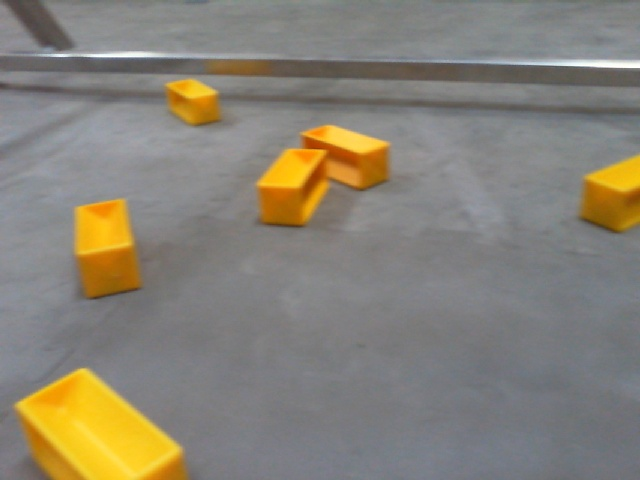YellowSample: (9, 365, 192, 480), (71, 192, 142, 301), (252, 144, 335, 234), (298, 121, 395, 191), (577, 152, 640, 236), (162, 75, 224, 129)
